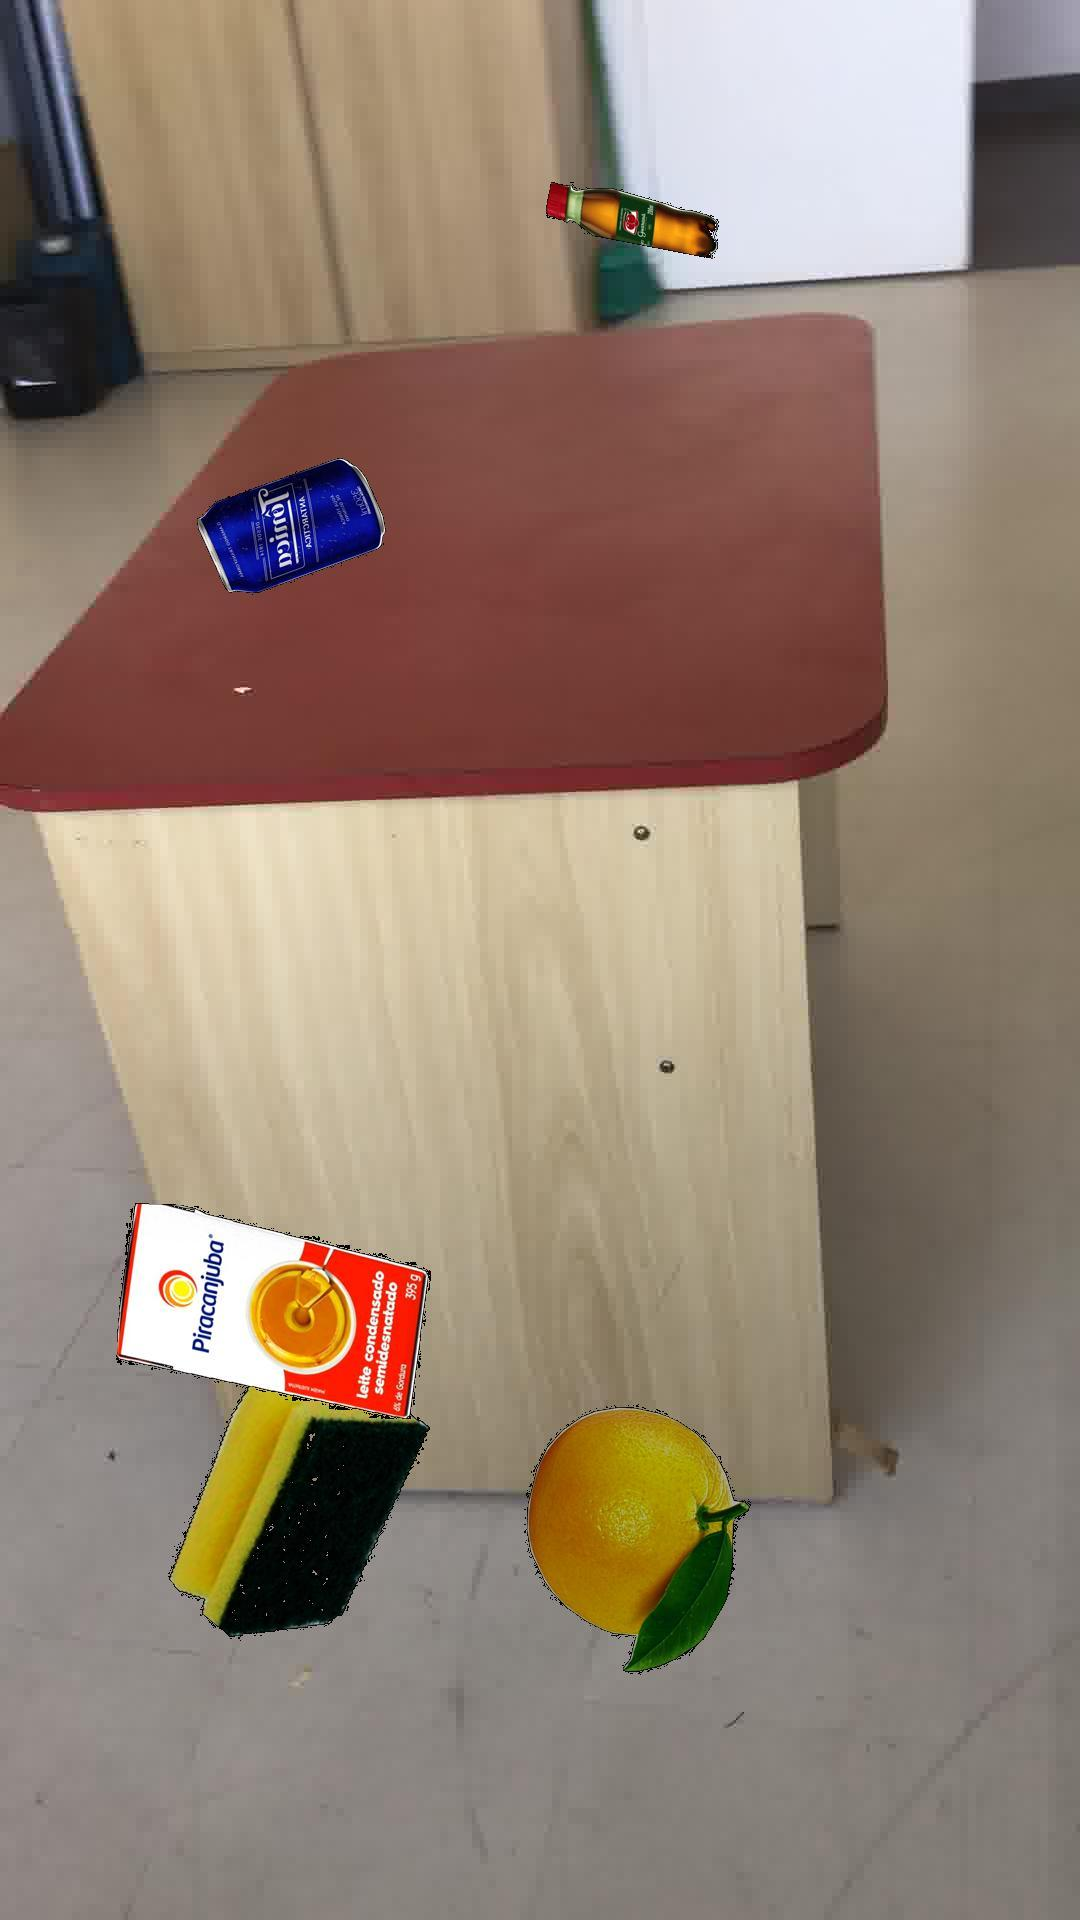guarana: (545, 181, 717, 257)
orange: (525, 1404, 749, 1672)
sponge: (166, 1386, 429, 1635)
tonic: (195, 456, 385, 592)
